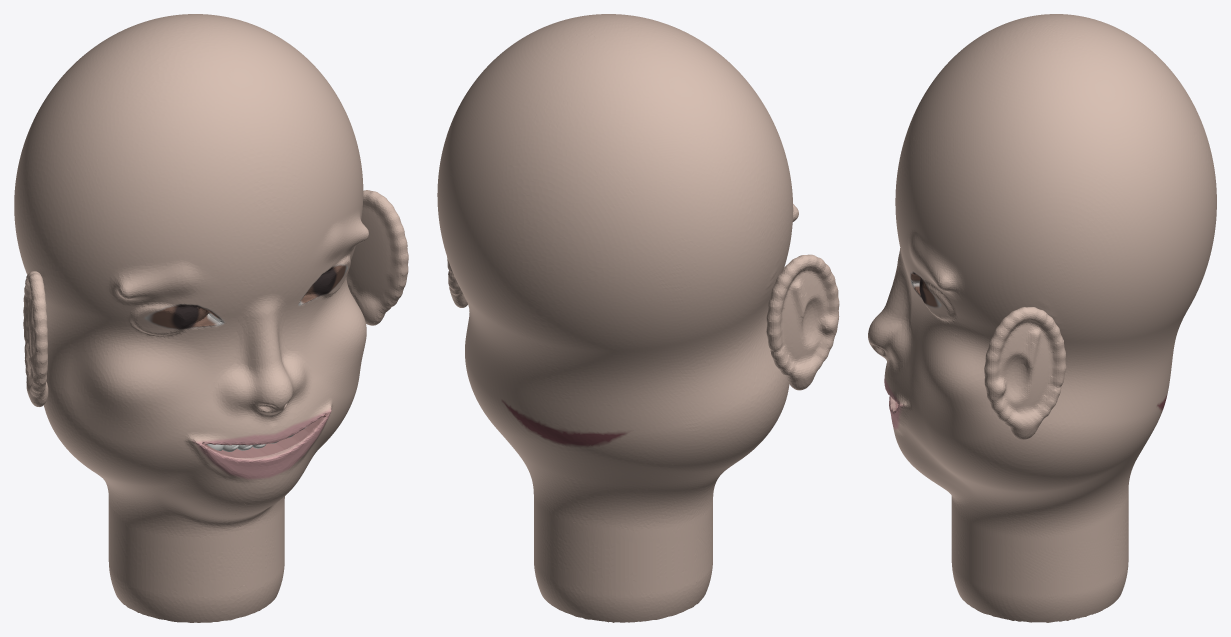
Rendered from karma_face_stage1_E_smile_EXPERIMENT.glb.
3 renders of one model, left to right at view 1: azimuth 30°, elevation 25°; view 2: azimuth 150°, elevation 25°; view 3: azimuth 270°, elevation 25°, orthographic.
Parts seen in each view (by area): view 1: head; view 2: head; view 3: head.
Boxes of the visible parts, <box> form: head: <box>14,14,408,622</box>; head: <box>437,14,839,622</box>; head: <box>868,14,1216,622</box>.
Bounding box in the file's own units: 2.7 × 3.83 × 2.17.
